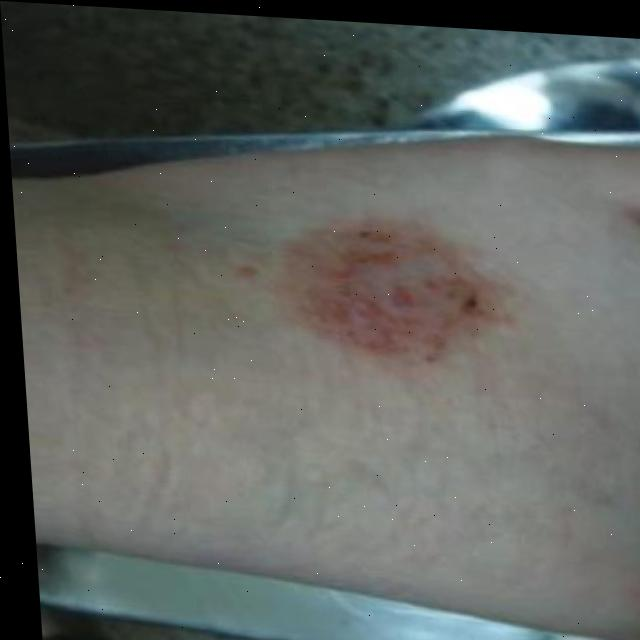Eczema: (252, 211, 506, 379)
